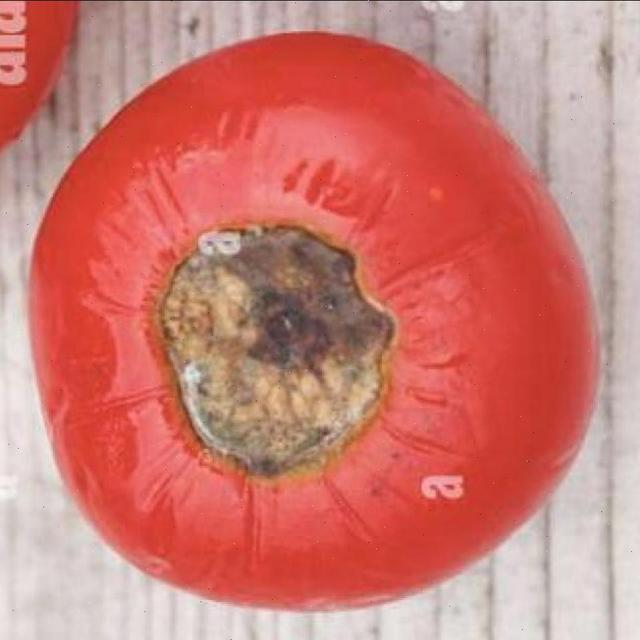Blossom End Rot Fruit: (102, 146, 265, 322)
